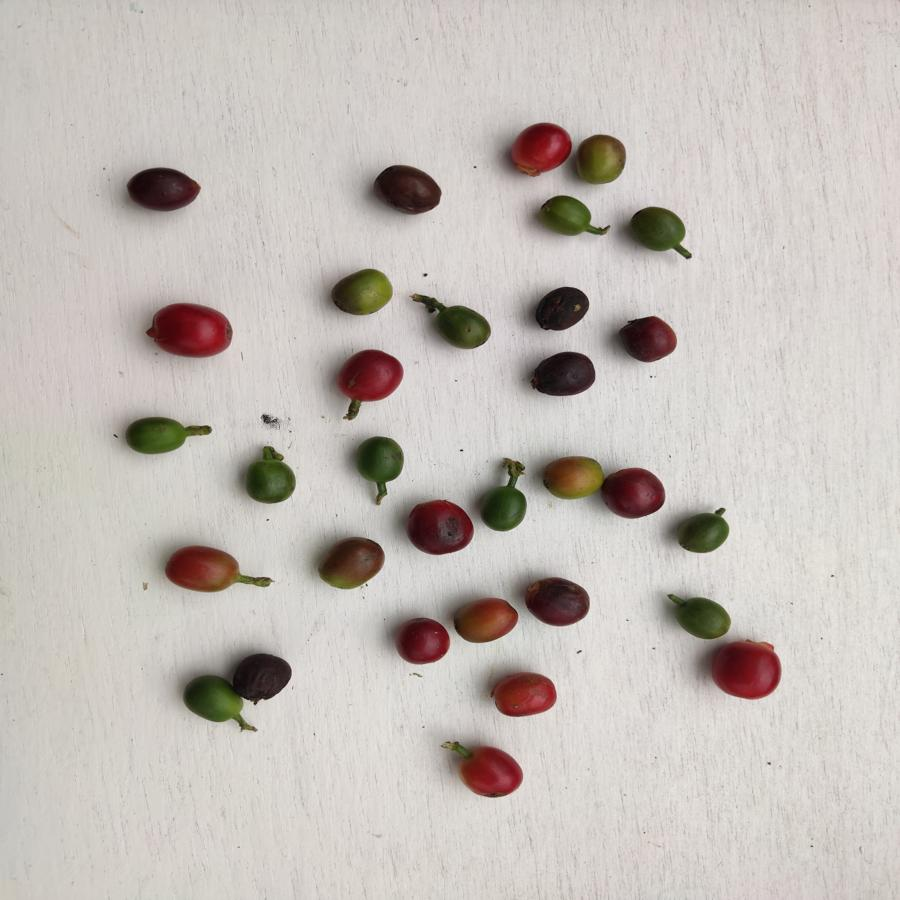Inmaduro: (328, 259, 402, 322), (238, 454, 304, 507), (473, 481, 533, 535), (181, 674, 242, 727), (627, 203, 688, 255), (537, 191, 595, 242), (353, 433, 411, 484), (674, 594, 733, 644), (121, 415, 191, 454), (675, 508, 733, 555), (433, 305, 491, 350)
Maduro: (147, 298, 235, 361), (162, 533, 243, 597), (338, 342, 407, 410), (710, 641, 785, 699), (507, 119, 572, 178), (458, 744, 526, 800), (494, 668, 559, 719), (391, 613, 451, 668)
Pinton: (316, 533, 388, 593), (453, 594, 519, 644), (538, 453, 605, 501), (575, 132, 629, 187)
Sobremaduro: (367, 159, 447, 217), (403, 497, 479, 558), (600, 463, 669, 523), (227, 644, 297, 703), (615, 307, 685, 365), (522, 573, 593, 628), (125, 167, 205, 214), (530, 352, 603, 398), (533, 286, 592, 333)
